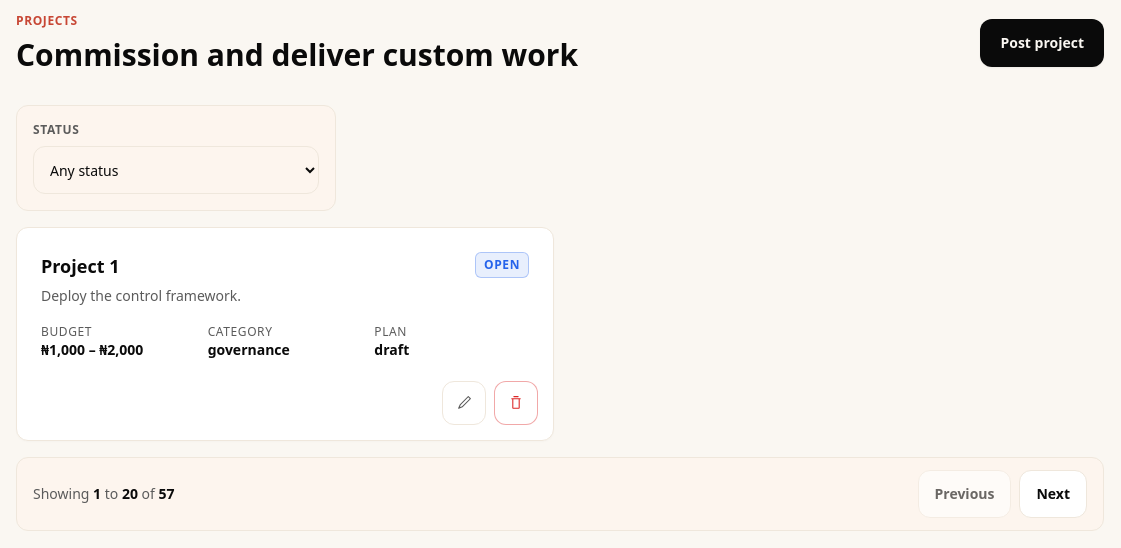
Test: ProjectListShell › pages through a list longer than one response
Expected: the navigation bar named "project list pages" shows "Showing 1 to 20 of 57", [16,457,1104,531]
Expected: the button "Previous" is disabled, [918,470,1011,518]
Click the button "Next" at (1053, 494), box [1020,470,1087,518]
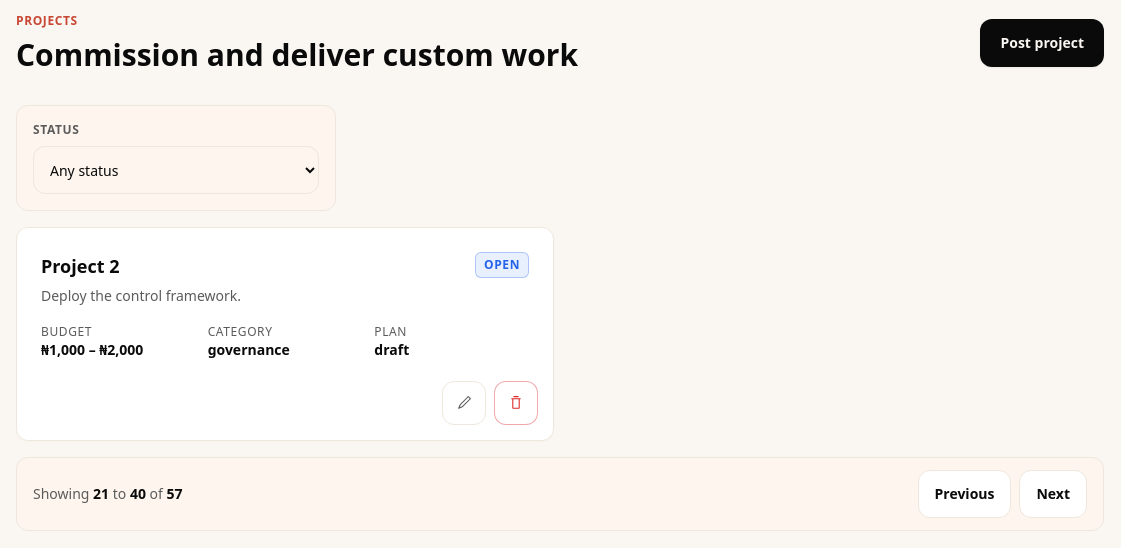
Now the navigation bar named "project list pages" shows "Showing 21 to 40 of 57", box [16,457,1104,531]
